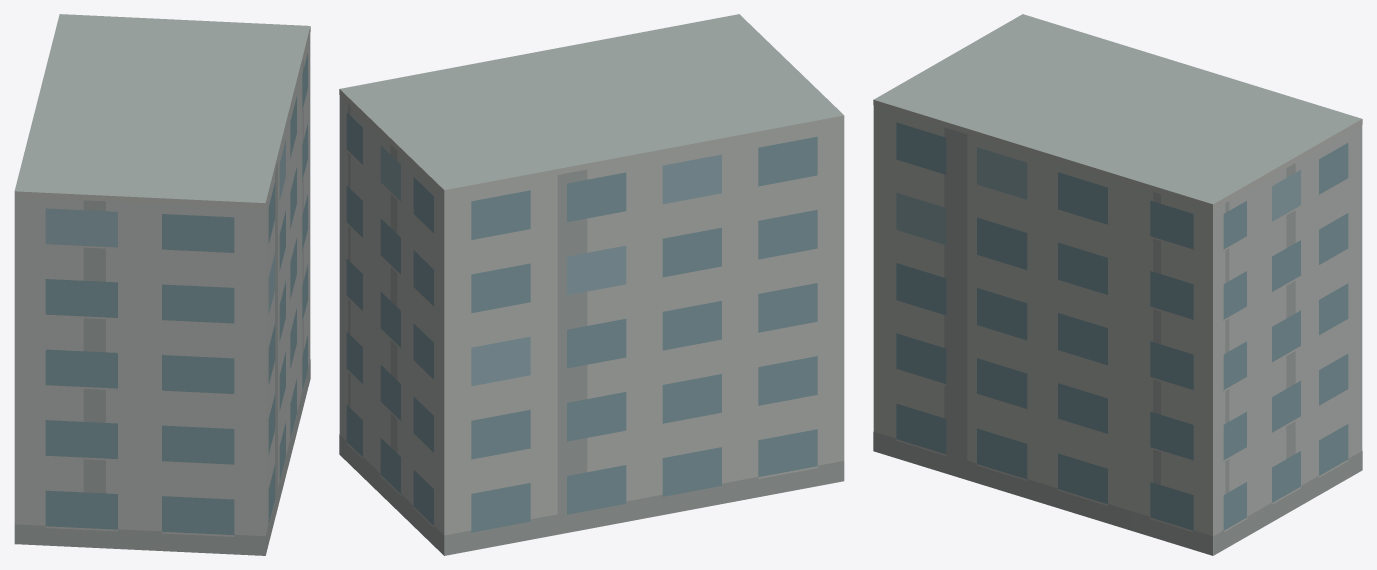
File: survey-upis-32824394.glb
3 renders of one model, left to right at view 1: azimuth 30°, elevation 25°; view 2: azimuth 150°, elevation 25°; view 3: azimuth 270°, elevation 25°, orthographic. The views are drawn at different scales.
Visible parts, largest first — view 1: survey-upis-32824394.tmp; view 2: survey-upis-32824394.tmp; view 3: survey-upis-32824394.tmp.
Boxes of the visible parts, <box> form: survey-upis-32824394.tmp: <box>14,14,310,555</box>; survey-upis-32824394.tmp: <box>339,14,844,555</box>; survey-upis-32824394.tmp: <box>873,14,1362,555</box>.
Bounding box in the file's own units: 17.26 × 14.85 × 18.73.
